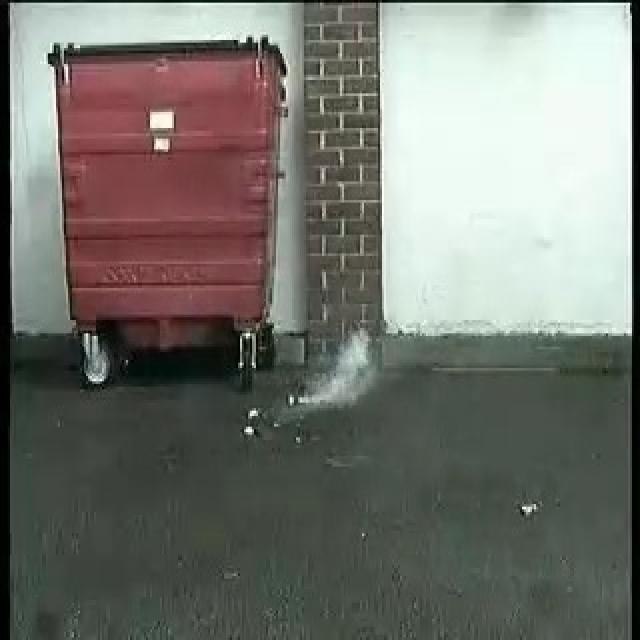smoke: (289, 329, 374, 410)
